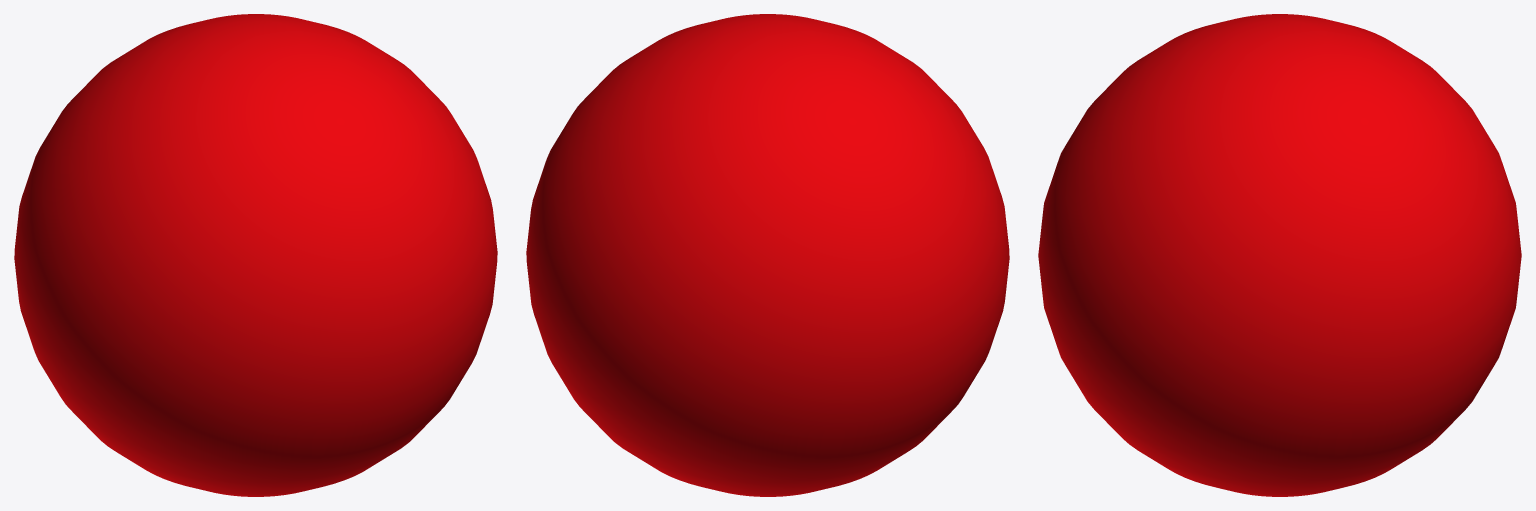
File: target_model.glb
3 renders of one model, left to right at view 1: azimuth 30°, elevation 25°; view 2: azimuth 150°, elevation 25°; view 3: azimuth 270°, elevation 25°, orthographic.
Parts seen in each view (by area): view 1: Sphere; view 2: Sphere; view 3: Sphere.
Part boxes in pixels (bbox=[...]): Sphere: bbox=[14, 14, 497, 496]; Sphere: bbox=[526, 14, 1009, 496]; Sphere: bbox=[1038, 14, 1521, 496].
Size of the model in its own units: 0.5 by 0.5 by 0.5.
